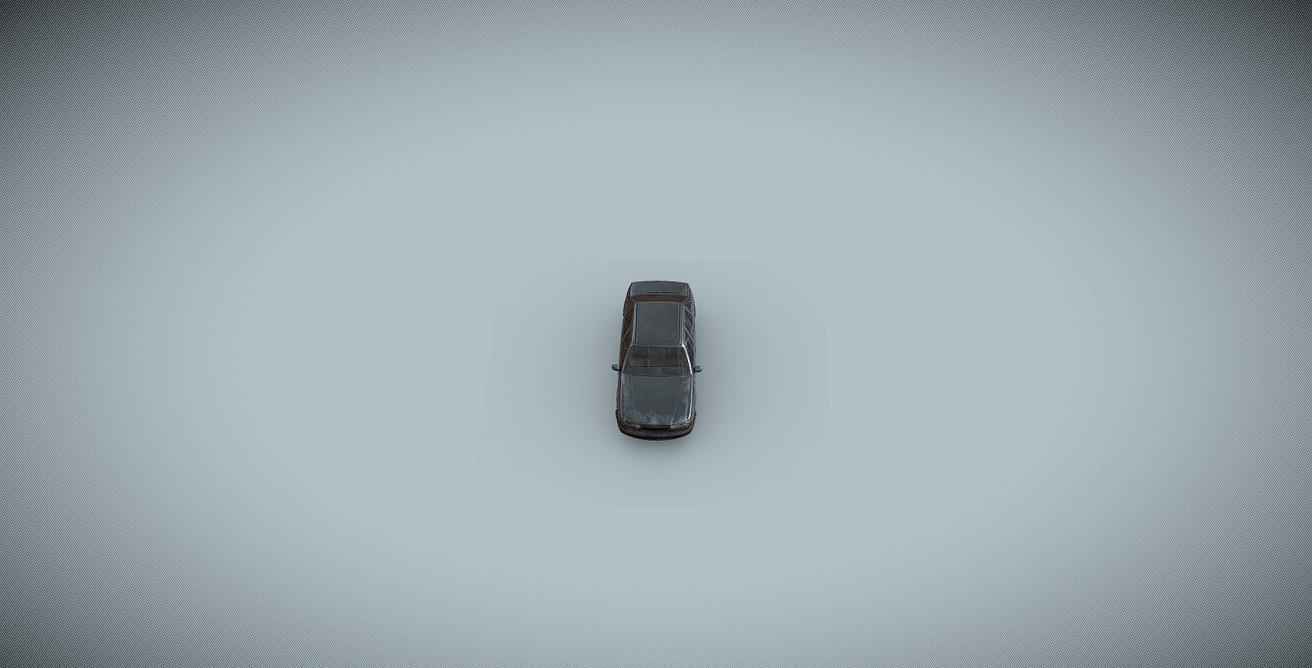Car: (610, 279, 702, 440)
